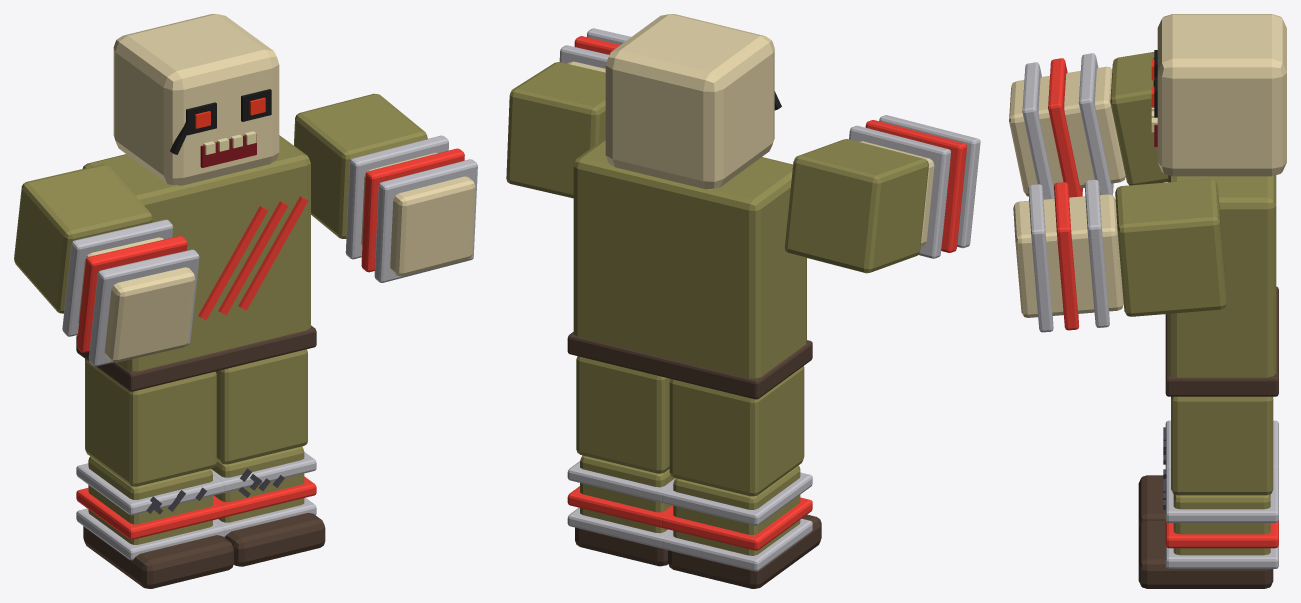
File: zombi_blindado.glb
3 renders of one model, left to right at view 1: azimuth 30°, elevation 25°; view 2: azimuth 150°, elevation 25°; view 3: azimuth 270°, elevation 25°, orthographic. The views are drawn at different scales.
Visible parts, largest first — view 1: Torso, LeftLeg, LeftArm, RightArm, Head, RightLeg; view 2: Torso, LeftLeg, Head, LeftArm, RightLeg, RightArm; view 3: RightArm, RightLeg, Head, LeftArm, Torso, LeftLeg.
Boxes of the visible parts, left/top/right/bottom form: Torso: left=76, top=135, right=316, bottom=391; LeftLeg: left=76, top=359, right=233, bottom=588; LeftArm: left=14, top=164, right=199, bottom=366; RightArm: left=294, top=93, right=477, bottom=282; Head: left=113, top=14, right=279, bottom=185; RightLeg: left=211, top=349, right=325, bottom=566; Torso: left=567, top=138, right=812, bottom=399; LeftLeg: left=662, top=366, right=821, bottom=588; Head: left=605, top=14, right=781, bottom=189; LeftArm: left=784, top=115, right=980, bottom=273; RightLeg: left=567, top=356, right=675, bottom=566; RightArm: left=506, top=28, right=630, bottom=198; RightArm: left=1013, top=179, right=1226, bottom=332; RightLeg: left=1138, top=396, right=1278, bottom=588; Head: left=1151, top=14, right=1286, bottom=176; LeftArm: left=1009, top=52, right=1168, bottom=199; Torso: left=1165, top=175, right=1278, bottom=396; LeftLeg: left=1138, top=420, right=1278, bottom=528.
Size of the model in its own units: 4.14 by 5.22 by 2.58.
Materials: 1 (1 with a texture image).
